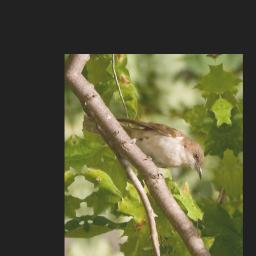Cuckoo: (79, 97, 210, 196)
